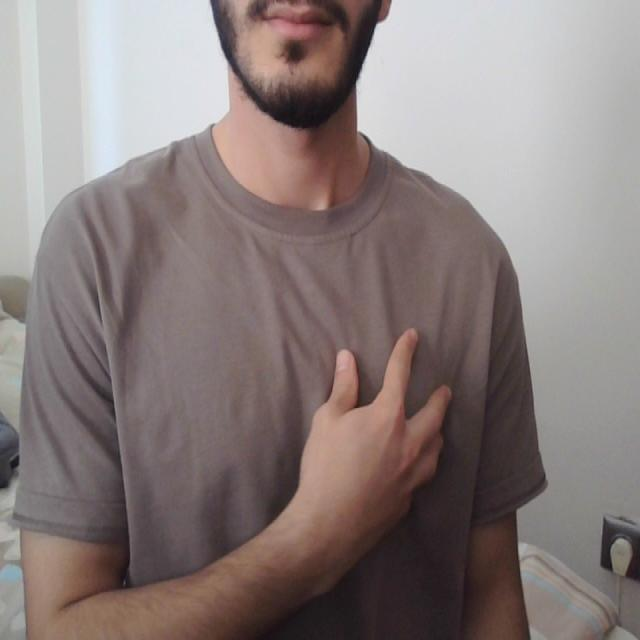Anne: (110, 319, 469, 578)
